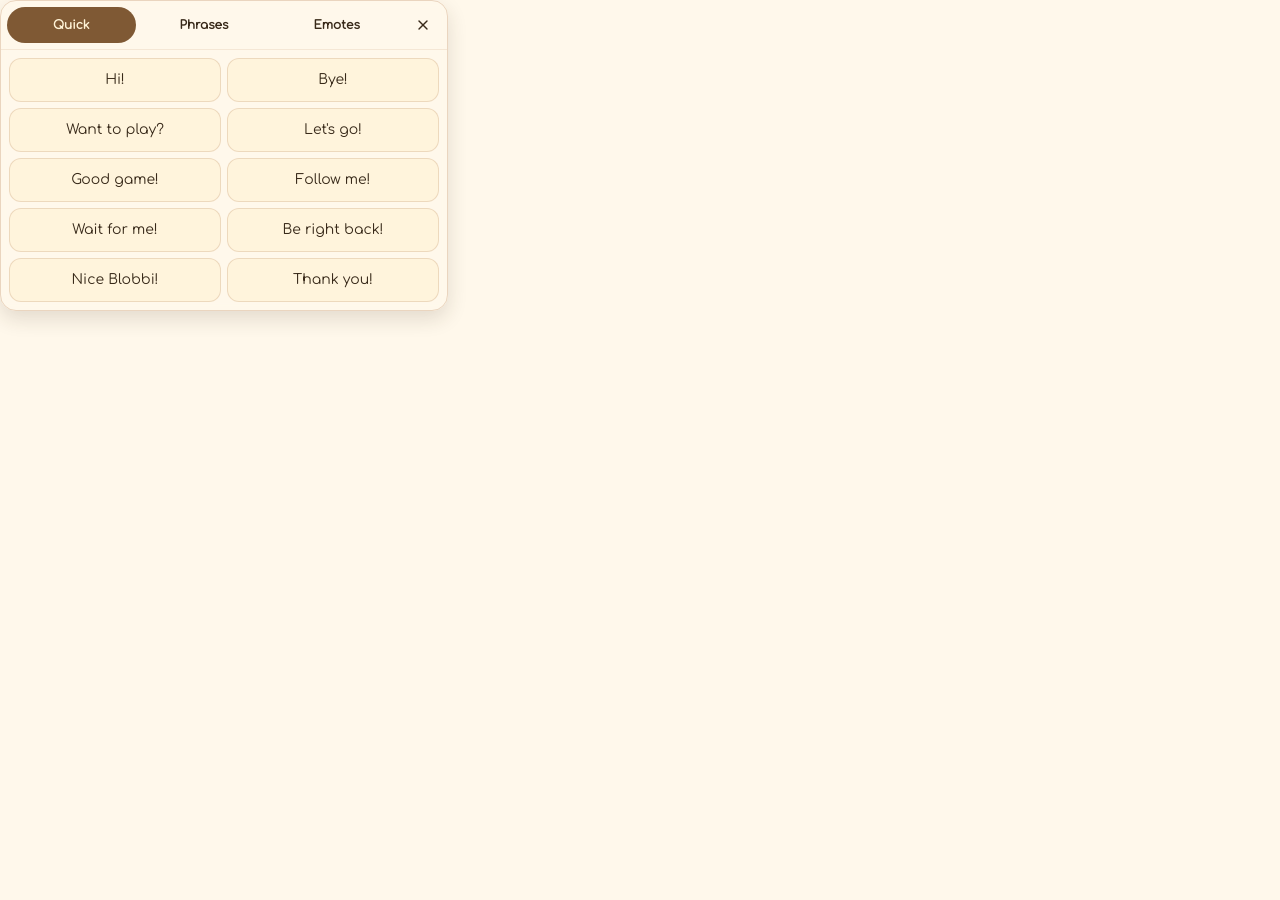
Test: Family offers everything except free text › still offers the full quick-phrase and emote catalogs
Check: the button "Hi!" is shown, box 9,58 -> 221,102
Check: the button "Bye!" is shown, box 227,58 -> 439,102
Click the tab "Emotes" at [337, 25], box 272,7 -> 401,43
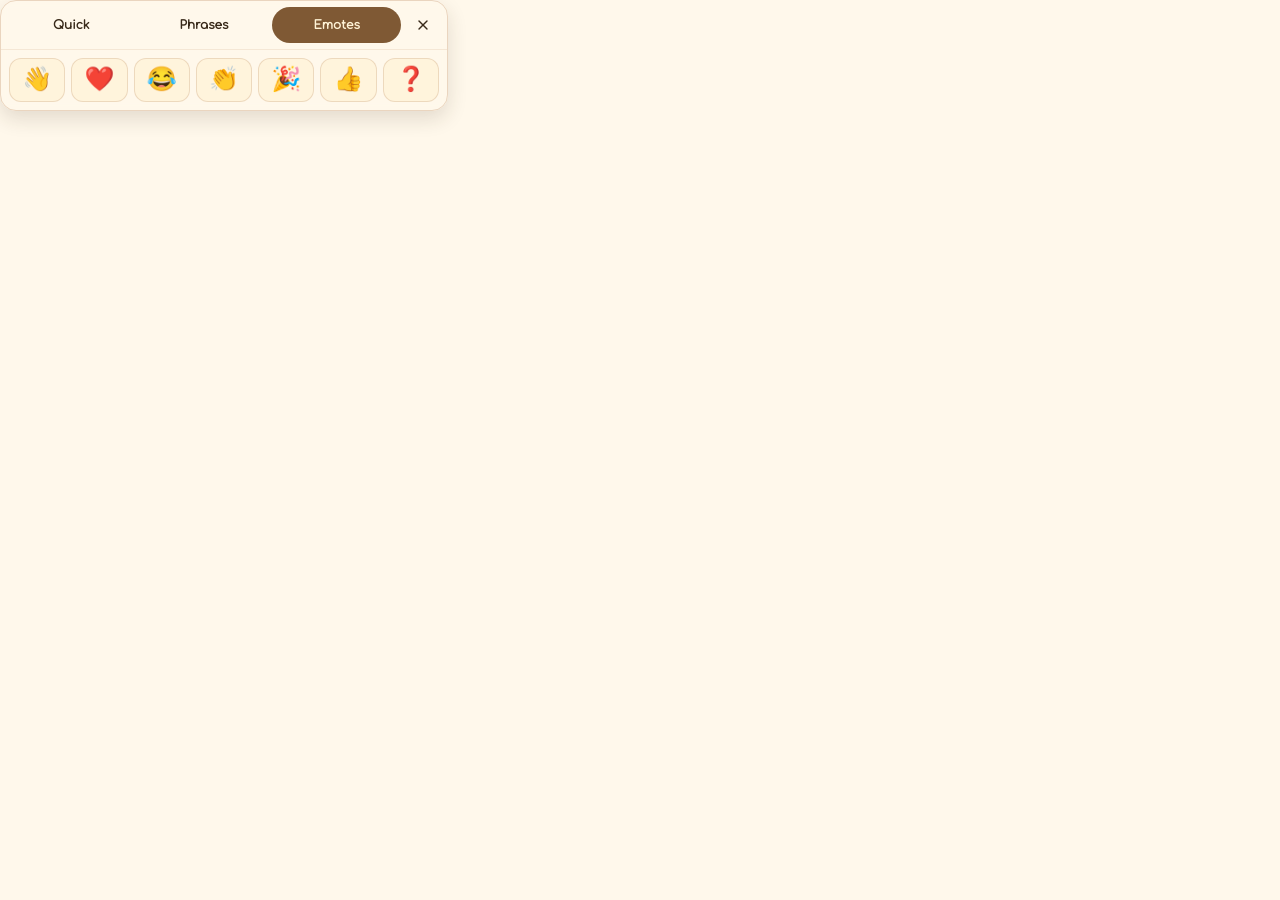
Check: the button named "Wave" is shown, box 9,58 -> 65,102
Check: the button named "Heart" is shown, box 71,58 -> 128,102
Check: the button named "Laugh" is shown, box 134,58 -> 190,102
